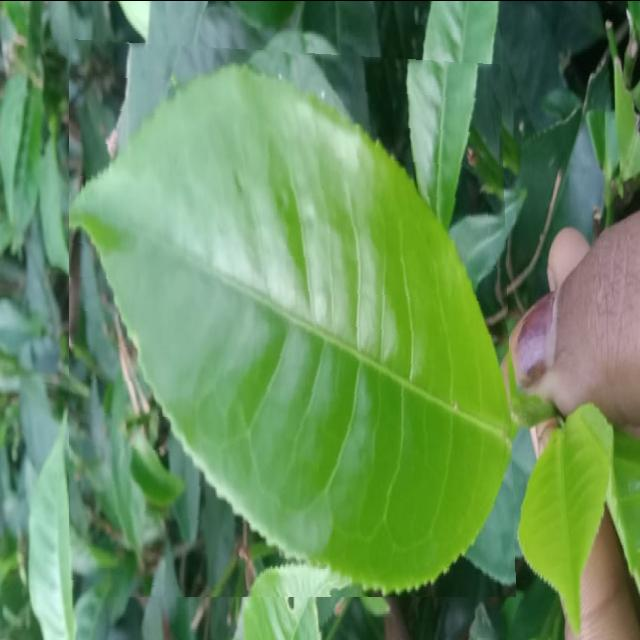Category B(2-4 days): (69, 37, 517, 596)
